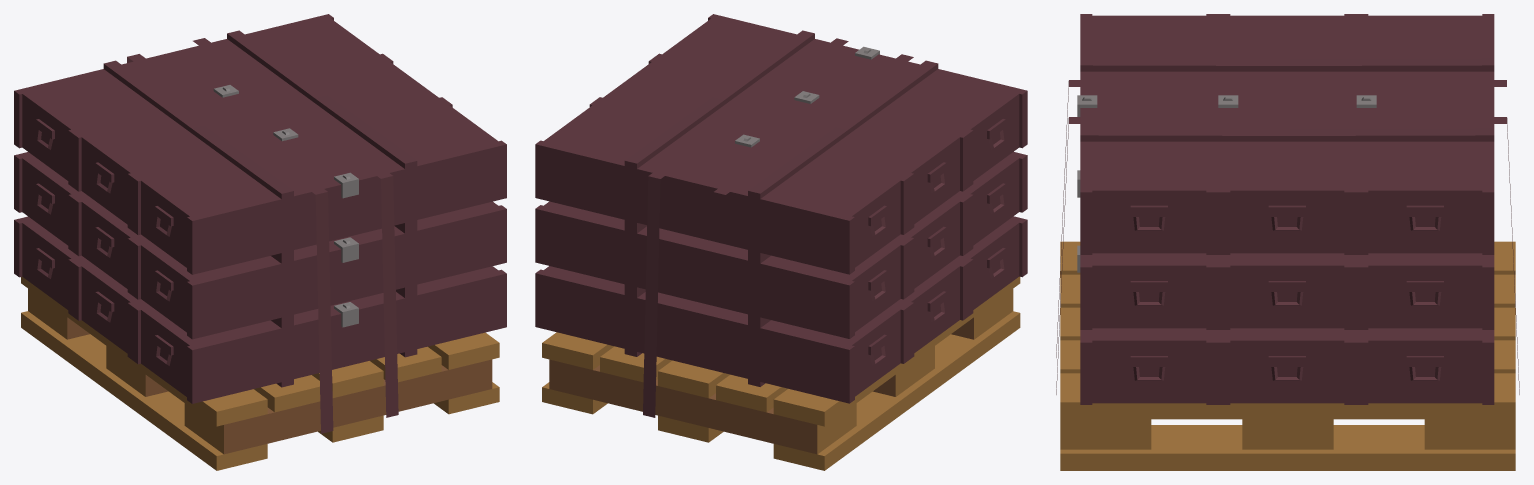
The model's file is weapons-creates-army-stack.glb.
3 renders of one model, left to right at view 1: azimuth 30°, elevation 25°; view 2: azimuth 150°, elevation 25°; view 3: azimuth 270°, elevation 25°, orthographic. The views are drawn at different scales.
Parts seen in each view (by area): view 1: creates-army-stack; view 2: creates-army-stack; view 3: creates-army-stack.
Part boxes in pixels (left/top/right/bottom): creates-army-stack: left=14, top=14, right=506, bottom=470; creates-army-stack: left=535, top=14, right=1027, bottom=470; creates-army-stack: left=1056, top=14, right=1519, bottom=470.
Bounding box in the file's own units: 1.23 × 0.9397 × 1.34.
